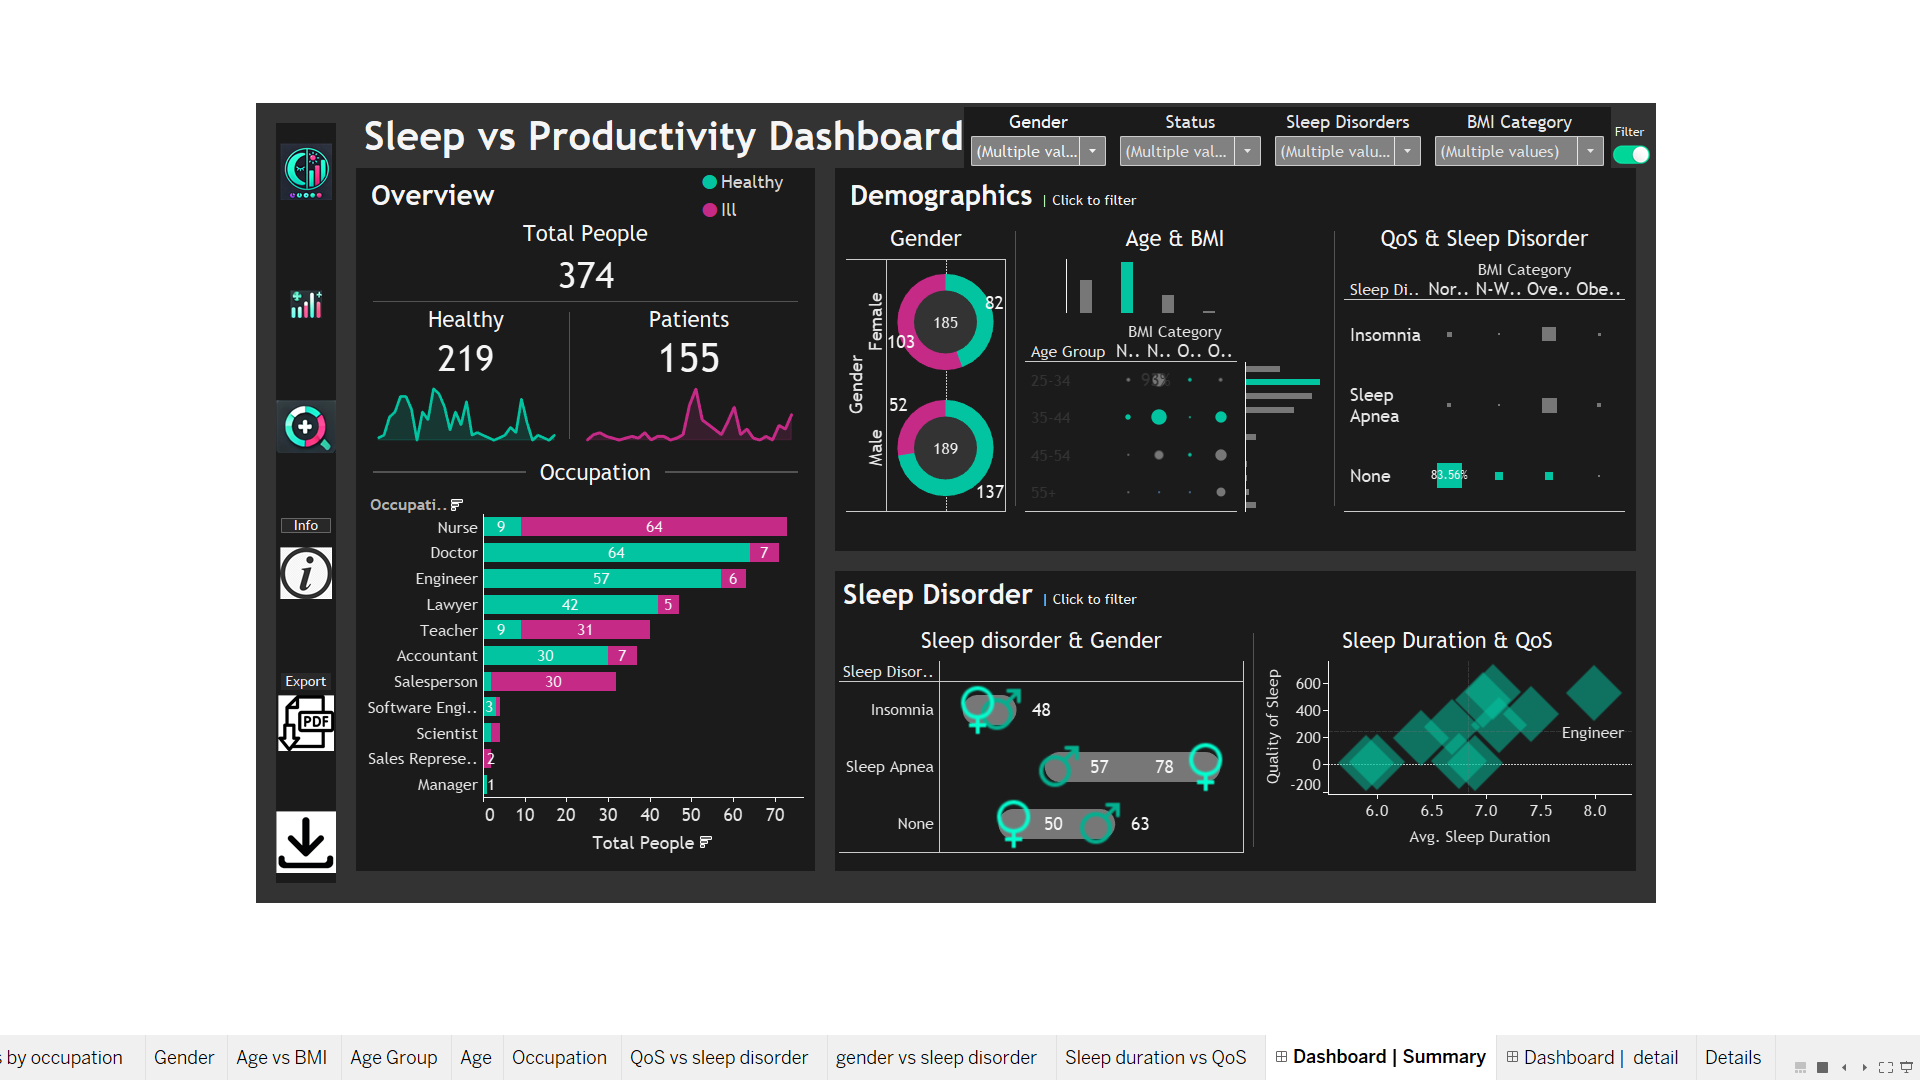

The dashboard page shown, as its layout file describes it:
{"tool":"tableau","page":{"name":"Dashboard | Summary","canvas":[1400,800],"ordinal":1},"visuals":[{"type":"blank","box":[81,2,1294,264]},{"type":"text","box":[1351,4,43,22]},{"type":"image","param":"Image/Screenshot 2024-10-30 102937.png","box":[16,6,60,97]},{"type":"dashboard-object","box":[1351,12,41,52]},{"type":"text","box":[438,42,127,77]},{"type":"text","box":[103,58,445,41]},{"type":"text","box":[582,58,787,41]},{"type":"text","box":[103,99,445,34]},{"type":"blank","box":[16,103,60,60]},{"type":"text","box":[582,104,168,34]},{"type":"blank","box":[755,104,1,295]},{"type":"text","box":[761,104,308,34]},{"type":"blank","box":[1074,104,1,295]},{"type":"text","box":[1080,104,289,34]},{"type":"worksheet","title":"Total People","mark":"Text","box":[103,133,445,51]},{"type":"worksheet","title":"Gender","mark":"Pie","rows":["Gender"],"cols":["Calculation_1612570147792416773","Calculation_1612570147792416773"],"box":[582,138,168,261]},{"type":"worksheet","title":"Age Group","mark":"Bar","rows":["Calculation_1537697803826675713"],"cols":["Calculation_1612570147796545544"],"box":[761,138,308,62]},{"type":"worksheet","title":"QoS vs sleep disorder","mark":"Square","rows":["Sleep Disorders"],"cols":["BMI Category"],"box":[1080,138,289,261]},{"type":"dashboard-object","box":[26,173,40,28]},{"type":"blank","box":[103,184,445,1]},{"type":"text","box":[103,185,206,34]},{"type":"blank","box":[309,185,1,147]},{"type":"text","box":[310,185,238,34]},{"type":"worksheet","title":"Age vs BMI","mark":"Circle","rows":["Calculation_1612570147796545544"],"cols":["BMI Category"],"box":[761,200,220,198.9]},{"type":"worksheet","title":"Occupation","mark":"Bar","rows":["Occupation"],"cols":["Calculation_1537697803826675713"],"box":[981,200,88,198.9]},{"type":"worksheet","title":"Total Patients","mark":"Text","box":[103,219,206,43]},{"type":"worksheet","title":"Healthy","mark":"Text","box":[310,219,238,43]},{"type":"blank","box":[16,223,60,60]},{"type":"worksheet","title":"Total Patients by age","mark":"Line","rows":["Calculation_1537697803826675713","Calculation_1537697803826675713"],"cols":["Age"],"box":[103,262,206,70]},{"type":"worksheet","title":"Total Healthy people by age ","mark":"Area","rows":["Calculation_183521692893827072","Calculation_183521692893827072"],"cols":["Age"],"box":[310,262,238,70]},{"type":"text","box":[81,266,1294,231]},{"type":"dashboard-object","box":[16,283,60,53]},{"type":"blank","box":[16,336,60,60]},{"type":"blank","box":[113,337,153,36]},{"type":"text","box":[266,337,139,36]},{"type":"blank","box":[405,337,133,36]},{"type":"worksheet","title":"Total Patients by occupation","mark":"Bar","rows":["Occupation"],"cols":["Calculation_1537697803825999872"],"box":[103,373,445,373.9]},{"type":"text","box":[16,396,60,25]},{"type":"dashboard-object","box":[16,421,60,70]},{"type":"text","box":[575,454,801,47]},{"type":"blank","box":[16,491,60,60]},{"type":"blank","box":[81,497,1294,268]},{"type":"text","box":[575,506,413,34]},{"type":"blank","box":[993,506,1,234]},{"type":"text","box":[999,506,377,34]},{"type":"worksheet","title":"gender vs sleep disorder","mark":"Square","rows":["Sleep Disorders"],"cols":["Physical Activity level","Physical Activity level"],"box":[575,540,413,200]},{"type":"worksheet","title":"Sleep duration vs QoS","mark":"Shape","rows":["Quality of Sleep"],"cols":["Sleep Duration"],"box":[999,540,377,200]},{"type":"text","box":[16,551,60,27]},{"type":"dashboard-object","box":[16,578,60,56]},{"type":"blank","box":[16,634,60,60]},{"type":"dashboard-object","box":[16,694,60,62]}]}

Visuals, with their boxes on the page's 1400x800 design canvas (x1, y1, x2, y2). These are canvas units, not pixel positions in the 1920x1080 screenshot, which may show the page scaled, cropped or inside an application window:
blank: box(81, 2, 1375, 266)
text: box(1351, 4, 1394, 26)
image: box(16, 6, 76, 103)
dashboard-object: box(1351, 12, 1392, 64)
text: box(438, 42, 565, 119)
text: box(103, 58, 548, 99)
text: box(582, 58, 1369, 99)
text: box(103, 99, 548, 133)
blank: box(16, 103, 76, 163)
text: box(582, 104, 750, 138)
blank: box(755, 104, 756, 399)
text: box(761, 104, 1069, 138)
blank: box(1074, 104, 1075, 399)
text: box(1080, 104, 1369, 138)
"Total People" worksheet (Text marks): box(103, 133, 548, 184)
"Gender" worksheet (Pie marks): box(582, 138, 750, 399)
"Age Group" worksheet (Bar marks): box(761, 138, 1069, 200)
"QoS vs sleep disorder" worksheet (Square marks): box(1080, 138, 1369, 399)
dashboard-object: box(26, 173, 66, 201)
blank: box(103, 184, 548, 185)
text: box(103, 185, 309, 219)
blank: box(309, 185, 310, 332)
text: box(310, 185, 548, 219)
"Age vs BMI" worksheet (Circle marks): box(761, 200, 981, 399)
"Occupation" worksheet (Bar marks): box(981, 200, 1069, 399)
"Total Patients" worksheet (Text marks): box(103, 219, 309, 262)
"Healthy" worksheet (Text marks): box(310, 219, 548, 262)
blank: box(16, 223, 76, 283)
"Total Patients by age" worksheet (Line marks): box(103, 262, 309, 332)
"Total Healthy people by age " worksheet (Area marks): box(310, 262, 548, 332)
text: box(81, 266, 1375, 497)
dashboard-object: box(16, 283, 76, 336)
blank: box(16, 336, 76, 396)
blank: box(113, 337, 266, 373)
text: box(266, 337, 405, 373)
blank: box(405, 337, 538, 373)
"Total Patients by occupation" worksheet (Bar marks): box(103, 373, 548, 747)
text: box(16, 396, 76, 421)
dashboard-object: box(16, 421, 76, 491)
text: box(575, 454, 1376, 501)
blank: box(16, 491, 76, 551)
blank: box(81, 497, 1375, 765)
text: box(575, 506, 988, 540)
blank: box(993, 506, 994, 740)
text: box(999, 506, 1376, 540)
"gender vs sleep disorder" worksheet (Square marks): box(575, 540, 988, 740)
"Sleep duration vs QoS" worksheet (Shape marks): box(999, 540, 1376, 740)
text: box(16, 551, 76, 578)
dashboard-object: box(16, 578, 76, 634)
blank: box(16, 634, 76, 694)
dashboard-object: box(16, 694, 76, 756)
